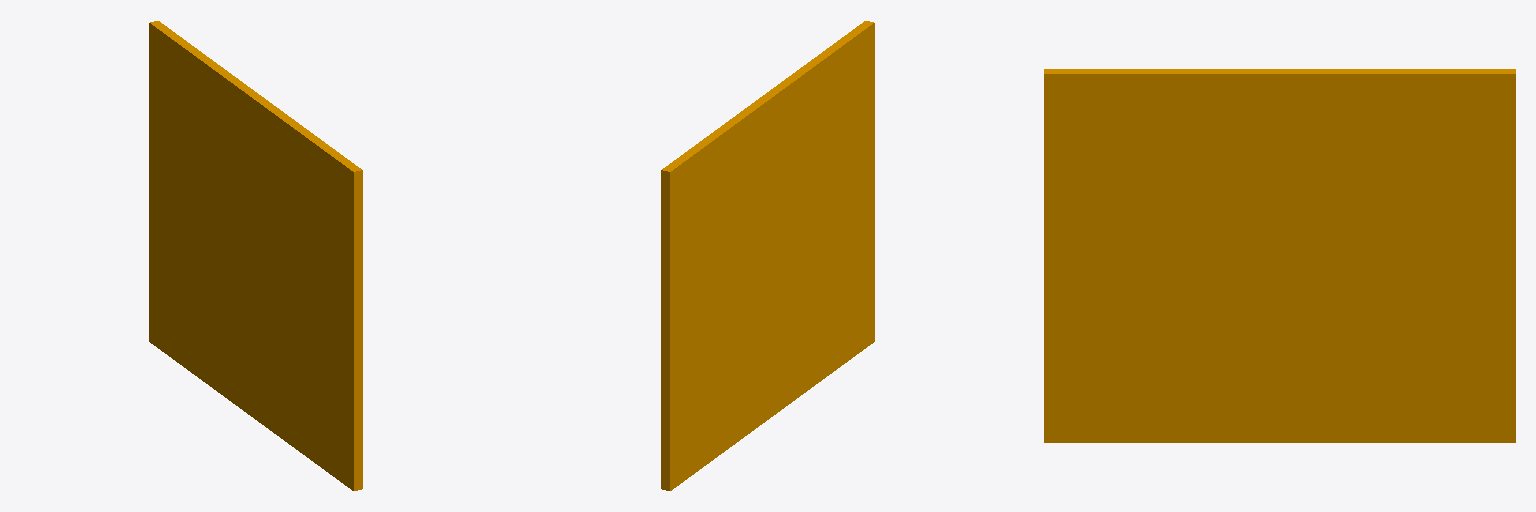
robot.urdf — block_2:
<?xml version="1.0"?>
<robot name="block_2">
<link name="table">
  <visual>
    <geometry>
      <box size="0.1 4.0 3.45"/>
    </geometry>
  </visual>
  <collision>
    <geometry>
      <box size="0.1 4.0 3.45"/>
    </geometry>
  </collision>
</link>
</robot>

--- What the picture shows (computed from the rendered views, not written in the file) ---
The picture shows the robot from 3 angles, left to right: view 1: azimuth 30°, elevation 25°; view 2: azimuth 150°, elevation 25°; view 3: azimuth 270°, elevation 25°; orthographic projection.
Robot: block_2 — 1 links, 0 joints (none); root link table; default pose: every joint at zero.
Links seen in each view (by area): view 1: table; view 2: table; view 3: table.
Boxes of the visible links, x1,y1,x2,y2 form: table: [149, 21, 362, 490]; table: [661, 21, 874, 490]; table: [1044, 69, 1515, 442].
Bounding box of the posed robot: 0.1 × 4 × 3.45 m (x, y, z).
Geometry: primitives only (box / cylinder / sphere), no mesh files.